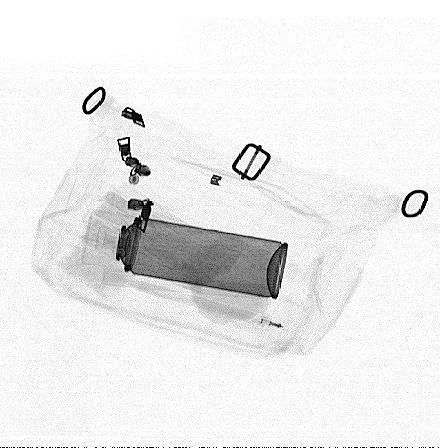Sprayer: (82, 210, 287, 301)
